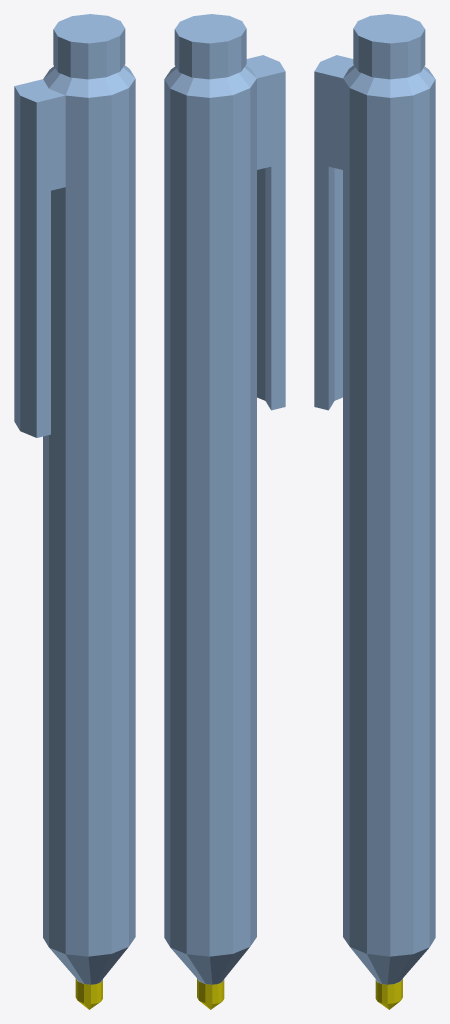
Rendered from METAL pen.fbx.
3 views of the same model, side by side, from view 1: azimuth 30°, elevation 25°; view 2: azimuth 210°, elevation 25°; view 3: azimuth 330°, elevation 25° (orthographic).
Parts seen in each view (by area): view 1: Cylinder.001; view 2: Cylinder.001; view 3: Cylinder.001.
Part boxes in pixels (x1,y1,x2,y2): Cylinder.001: (14, 14, 135, 1009); Cylinder.001: (164, 14, 285, 1009); Cylinder.001: (314, 14, 435, 1009).
Size of the model in its own units: 74.9 by 641 by 53.03.
